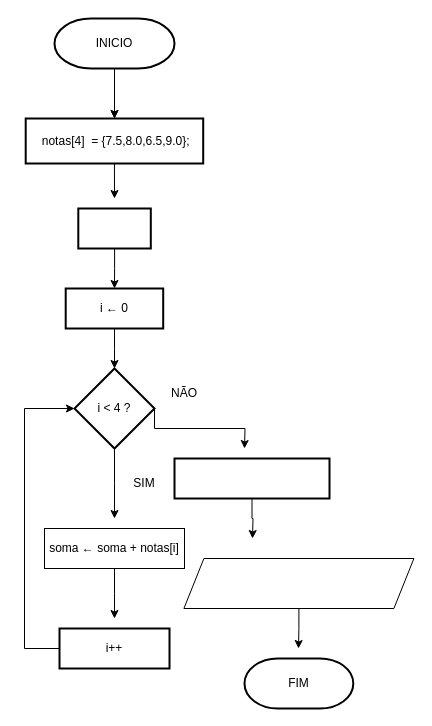
Image size: 432x726. Some labels were removed from this diagram. Here are the shapes that lost their labels. From the top down, the centre of each, then its label:
(114,228): soma ← 0
(251,478): media ← soma\4
(298,583): "A media das notas e:"
